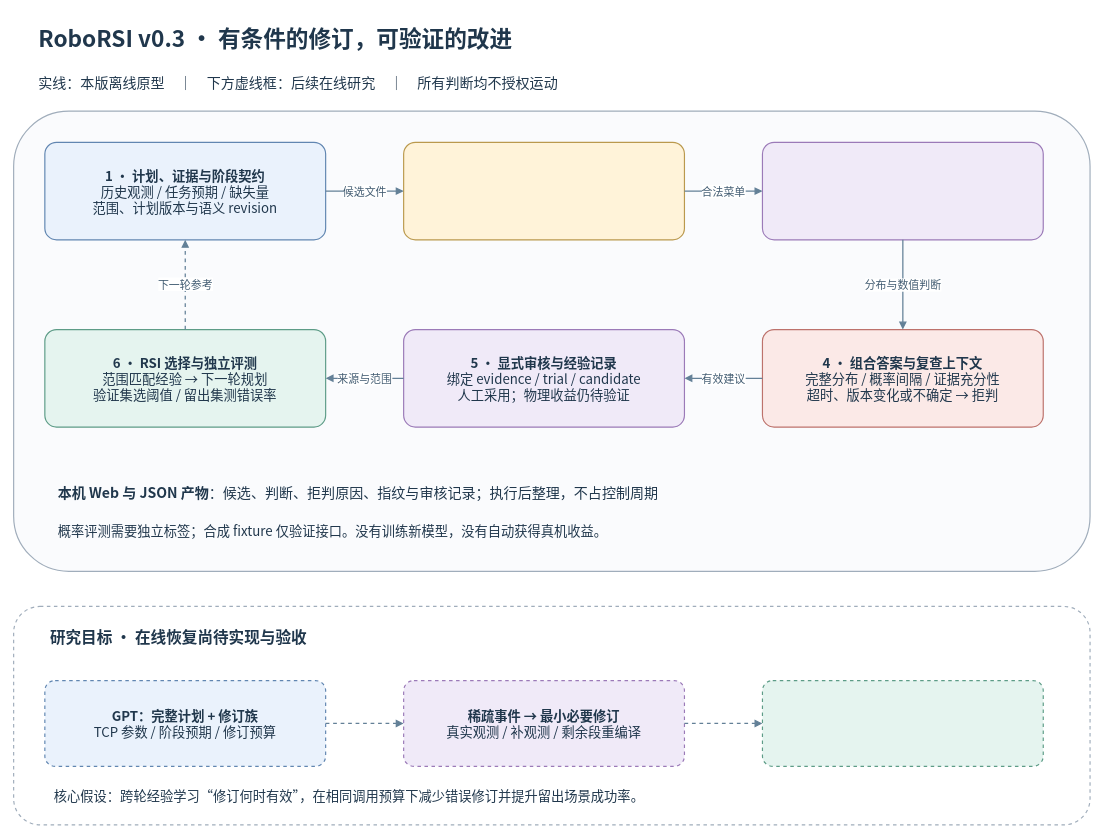
This 1104x838 diagram has some shape labels left out. Here are the shapes that lost their labels. From the top down, the centre of each, then its label:
At (544,190): "2 · 确定性候选筛选 同基线 / 有界改动 / 重编译 默认几何检查；数值影子模式另标".
At (902,190): "3 · 可替换结构化判断 优先审核 / 补证据 / 新提案 / 拒判 禁用、合成、回放、可选 Jev API".
At (902,723): "连续执行与独立结果标签 200 Hz 链路已有；在线替换待实现".
